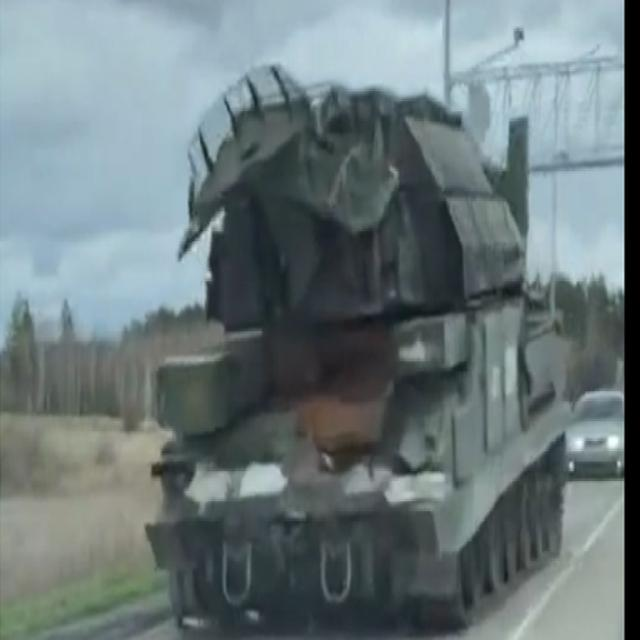CAR: (564, 376, 625, 476)
MLRS: (137, 54, 564, 616)
